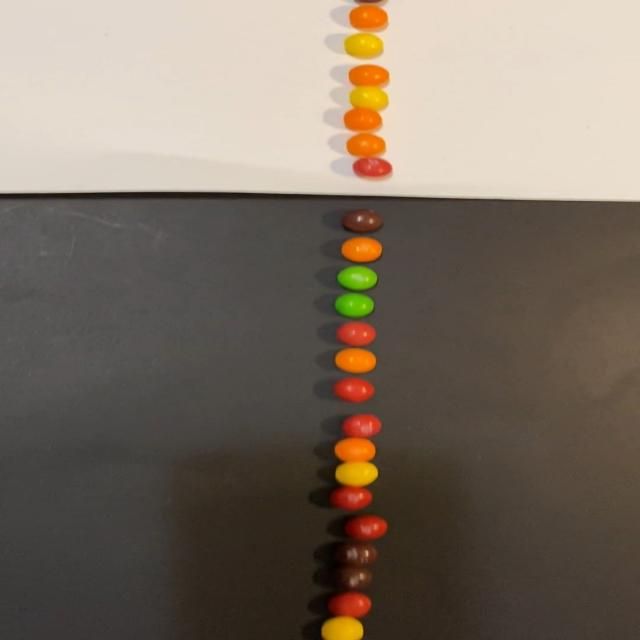smartie: (330, 592, 373, 618), (334, 542, 376, 567), (333, 567, 374, 592), (334, 462, 378, 485), (343, 209, 385, 233), (343, 239, 385, 263), (329, 485, 371, 509), (336, 265, 376, 290), (348, 4, 387, 29), (334, 348, 376, 371), (346, 516, 388, 539), (321, 617, 363, 640), (349, 87, 389, 111), (335, 294, 375, 318), (343, 32, 381, 57), (342, 108, 381, 132), (338, 322, 377, 346), (342, 413, 382, 436), (334, 441, 375, 463), (345, 134, 384, 157), (349, 64, 389, 86), (335, 378, 373, 401), (353, 156, 391, 177)
